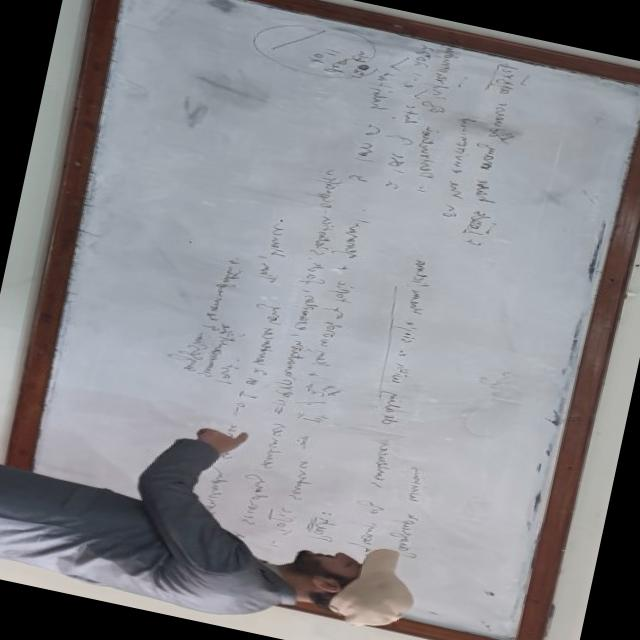Instructor: (0, 451, 425, 640)
White-board: (2, 0, 640, 640)
